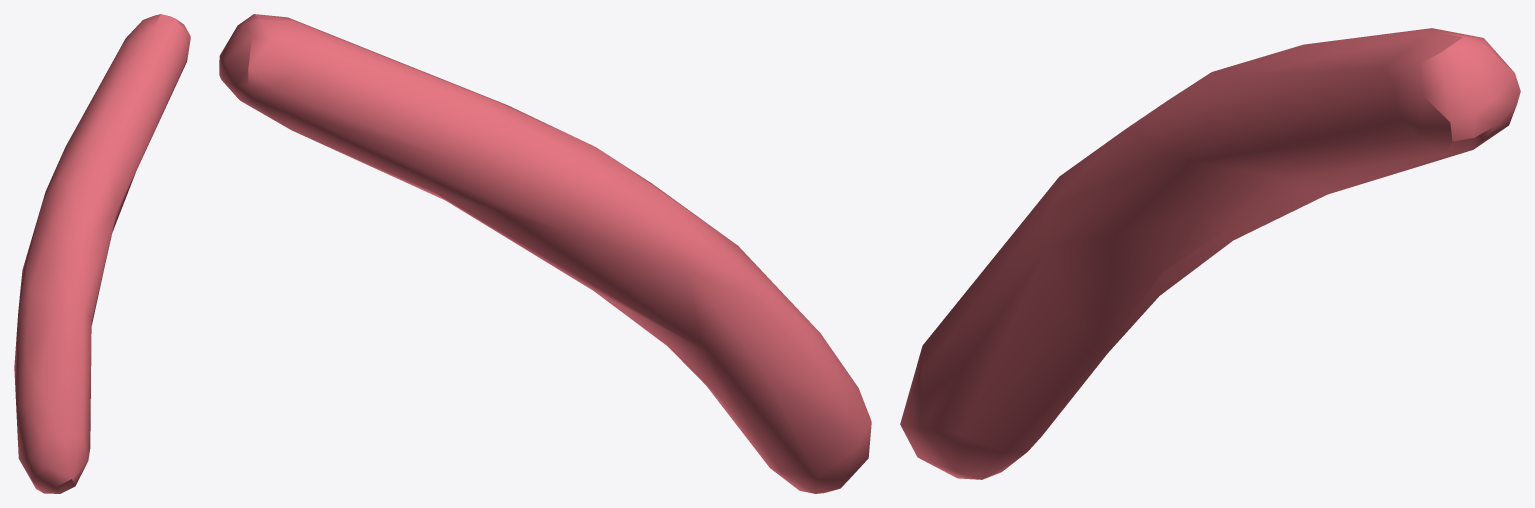
File: fma8663_fj3026.glb
3 views of the same model, side by side, from view 1: azimuth 30°, elevation 25°; view 2: azimuth 150°, elevation 25°; view 3: azimuth 270°, elevation 25° (orthographic). The views are drawn at different scales.
Visible parts, largest first — view 1: FMA8663_FJ3026; view 2: FMA8663_FJ3026; view 3: FMA8663_FJ3026.
Boxes of the visible parts, x1,y1,x2,y2 form: FMA8663_FJ3026: (14, 14, 190, 493); FMA8663_FJ3026: (219, 14, 871, 493); FMA8663_FJ3026: (900, 28, 1520, 479).
Size of the model in its own units: 0.0114 by 0.0126 by 0.0107.
